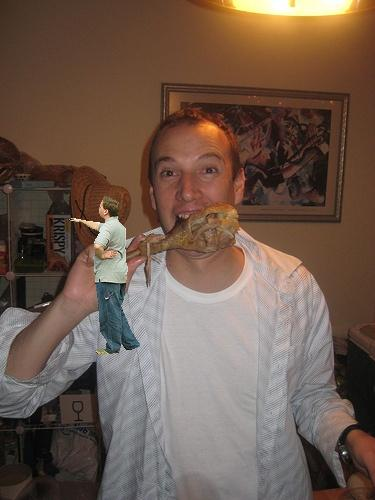tampered: (70, 197, 140, 354)
